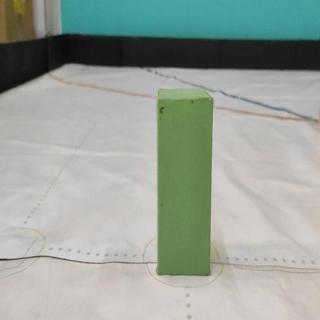greenbox: (157, 88, 211, 279)
